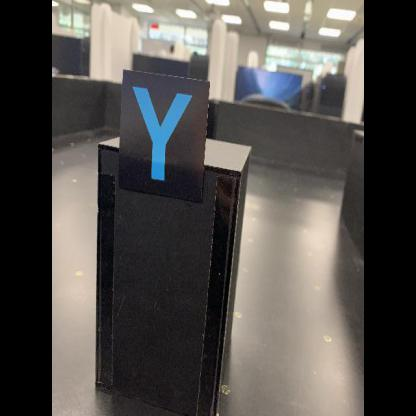y: (118, 67, 212, 207)
